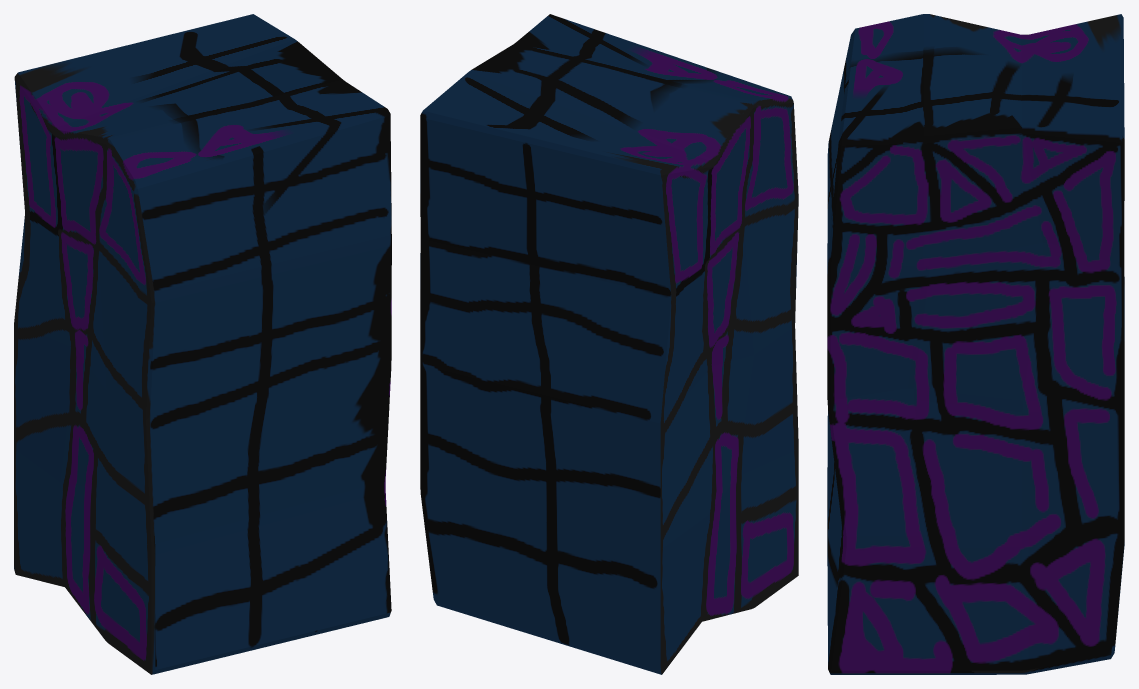
The model's file is CastleWall1.glb.
3 renders of one model, left to right at view 1: azimuth 30°, elevation 25°; view 2: azimuth 150°, elevation 25°; view 3: azimuth 270°, elevation 25°, orthographic. The views are drawn at different scales.
Visible parts, largest first — view 1: Cube; view 2: Cube; view 3: Cube.
Part boxes in pixels (box(x1,y1,x2,y2)): Cube: box(14, 14, 391, 674); Cube: box(420, 14, 798, 674); Cube: box(827, 14, 1124, 674).
Size of the model in its own units: 2.08 by 4.06 by 2.
1 material, 1 textured.
